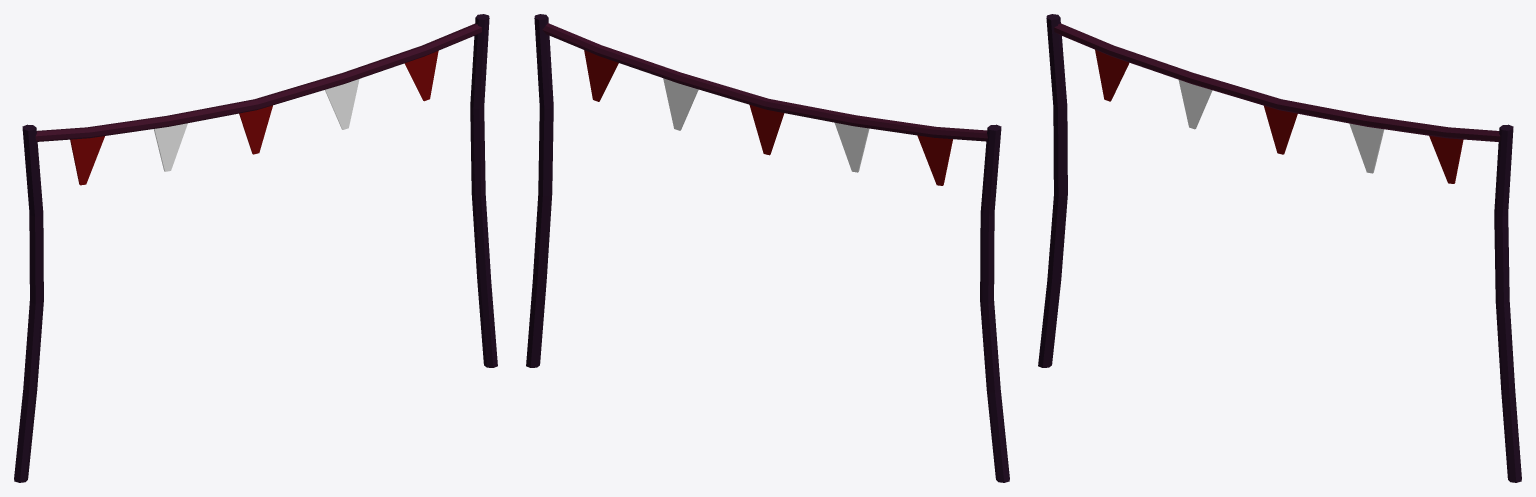
Rendered from prop_finish_line.FBX.
3 renders of one model, left to right at view 1: azimuth 30°, elevation 25°; view 2: azimuth 150°, elevation 25°; view 3: azimuth 330°, elevation 25°, orthographic.
Visible parts, largest first — view 1: finish_line; view 2: finish_line; view 3: finish_line.
Part boxes in pixels (x1,y1,x2,y2): finish_line: [14, 14, 497, 482]; finish_line: [526, 14, 1009, 482]; finish_line: [1038, 14, 1521, 482].
Bounding box in the file's own units: 12.72 × 8.81 × 0.3234.
